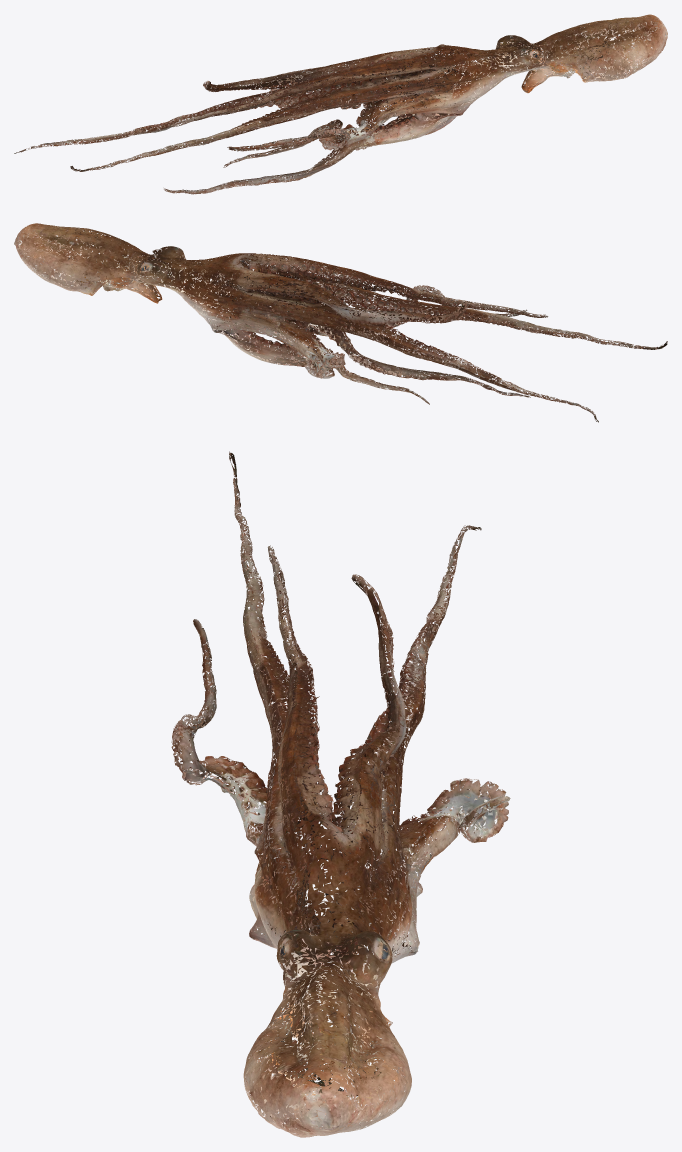
The model's file is octopus.glb.
3 views of the same model, one above another, from view 1: azimuth 30°, elevation 25°; view 2: azimuth 150°, elevation 25°; view 3: azimuth 270°, elevation 25° (orthographic). The views are drawn at different scales.
Parts seen in each view (by area): view 1: Object_13, Object_6; view 2: Object_6, Object_13; view 3: Object_6, Object_13.
Boxes of the visible parts, <box> form: Object_13: <box>14,17,667,194</box>; Object_6: <box>18,14,667,194</box>; Object_6: <box>14,223,662,421</box>; Object_13: <box>17,224,667,422</box>; Object_6: <box>171,457,509,1135</box>; Object_13: <box>171,451,510,1137</box>.
Size of the model in its own units: 19.22 by 3.12 by 4.55.
Materials: 2 (2 with a texture image).
